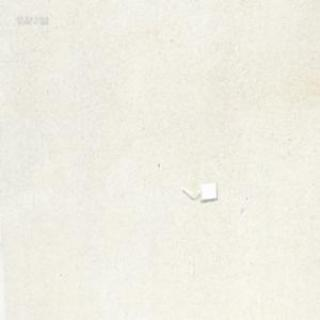LuggageTagtrack_idkeyframe: (180, 180, 217, 201)
